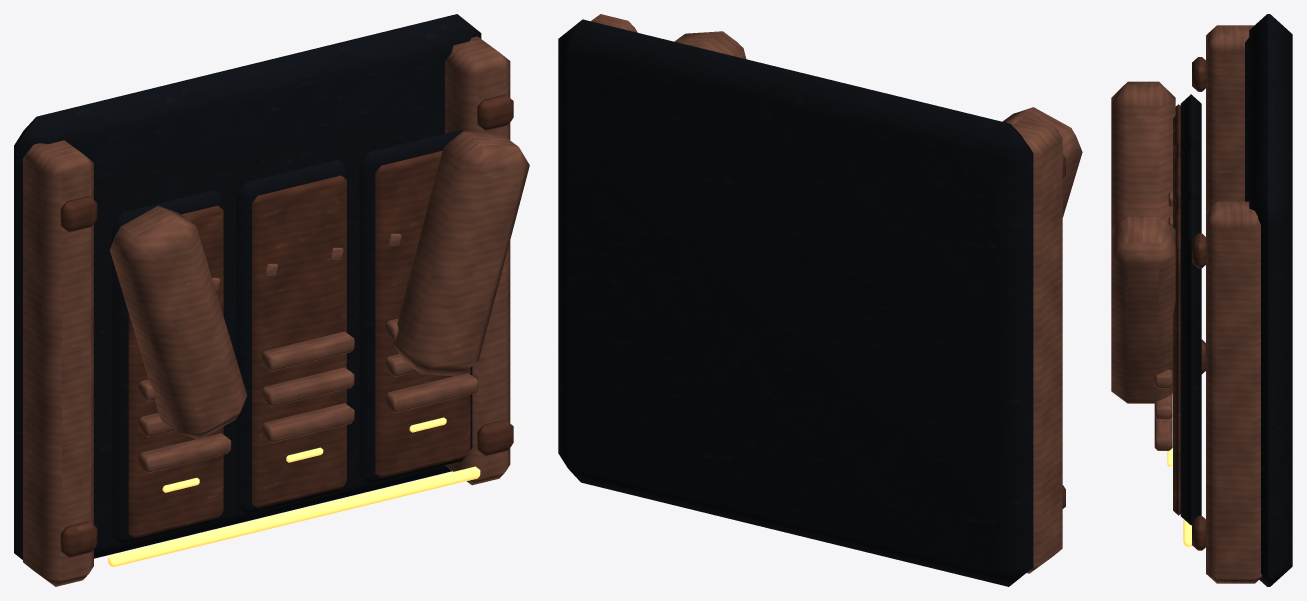
The model's file is scrapyard_expanse_fixture.glb.
3 renders of one model, left to right at view 1: azimuth 30°, elevation 25°; view 2: azimuth 150°, elevation 25°; view 3: azimuth 270°, elevation 25°, orthographic. The views are drawn at different scales.
Visible parts, largest first — view 1: scrapyard_expanse_fixture - scrapyard_expanse trim, scrapyard_expanse_fixture - Recessed iron, scrapyard_expanse_fixture - scrapyard_expanse panels, scrapyard_expanse_fixture - scrapyard_expanse accents; view 2: scrapyard_expanse_fixture - Recessed iron, scrapyard_expanse_fixture - scrapyard_expanse trim; view 3: scrapyard_expanse_fixture - scrapyard_expanse trim, scrapyard_expanse_fixture - Recessed iron, scrapyard_expanse_fixture - scrapyard_expanse panels, scrapyard_expanse_fixture - scrapyard_expanse accents.
Part boxes in pixels (x1,y1,x2,y2): scrapyard_expanse_fixture - scrapyard_expanse trim: (23, 36, 529, 586); scrapyard_expanse_fixture - Recessed iron: (14, 14, 481, 559); scrapyard_expanse_fixture - scrapyard_expanse panels: (60, 94, 513, 557); scrapyard_expanse_fixture - scrapyard_expanse accents: (108, 417, 480, 567); scrapyard_expanse_fixture - Recessed iron: (558, 19, 1033, 586); scrapyard_expanse_fixture - scrapyard_expanse trim: (591, 14, 1082, 573); scrapyard_expanse_fixture - scrapyard_expanse trim: (1111, 25, 1262, 583); scrapyard_expanse_fixture - Recessed iron: (1180, 14, 1292, 586); scrapyard_expanse_fixture - scrapyard_expanse panels: (1173, 57, 1205, 550); scrapyard_expanse_fixture - scrapyard_expanse accents: (1167, 449, 1191, 547).
Bounding box in the file's own units: 3.13 × 2.92 × 1.21.
Materials: 4 (3 with a texture image).
